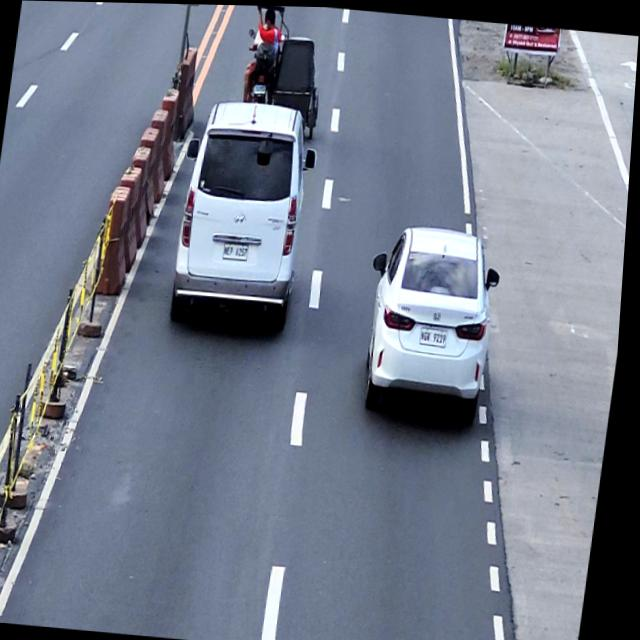Car: (167, 95, 325, 330), (358, 218, 509, 419)
License-Plate: (423, 325, 452, 347), (225, 239, 253, 260), (253, 81, 268, 92)
Tricycle: (235, 4, 333, 140)
